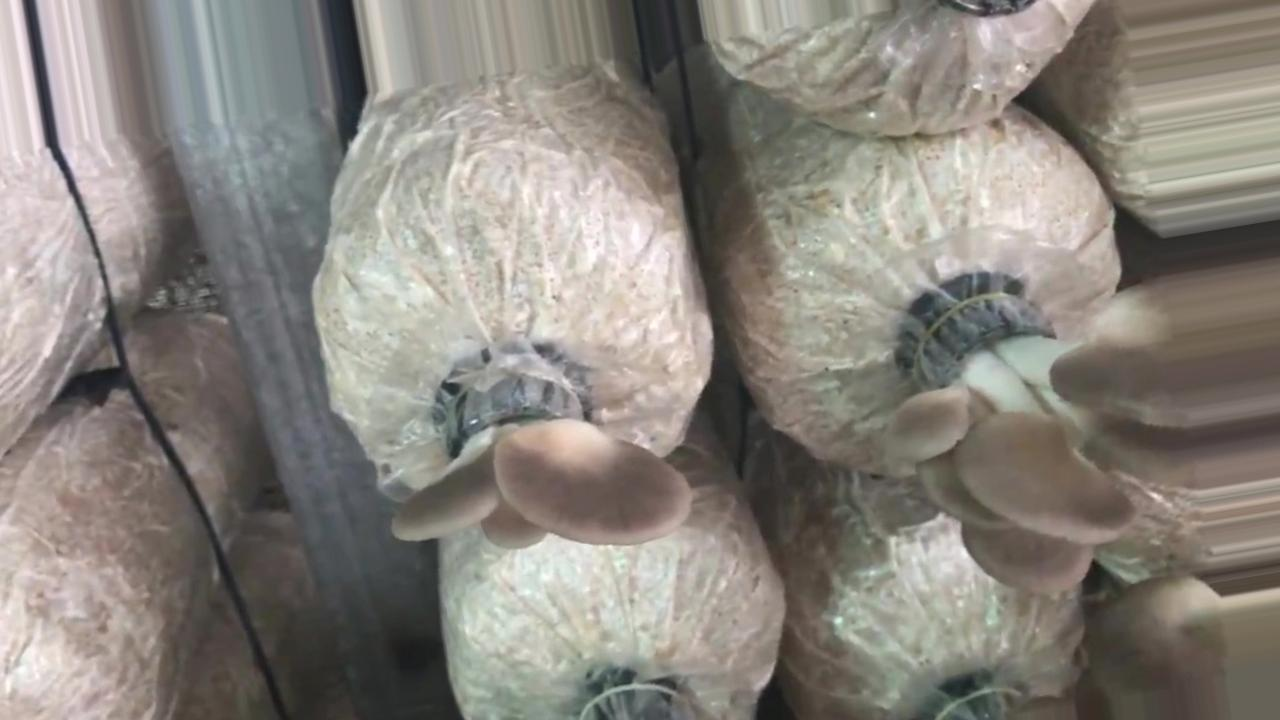nam: (913, 284, 1277, 591), (388, 357, 691, 559)
